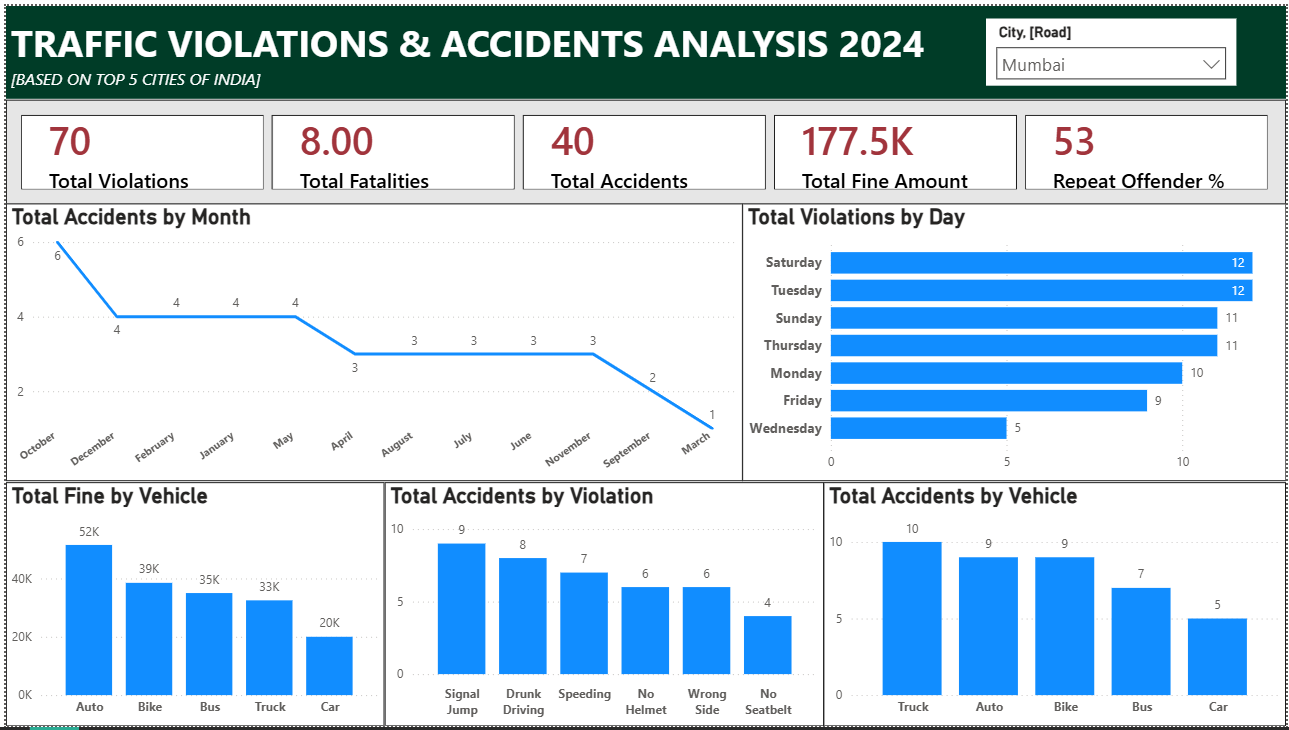

What the dashboard file says about the page in this screenshot:
{"tool":"powerbi","page":{"name":"Page 1","canvas":[1280,720],"ordinal":0},"visuals":[{"type":"cardVisual","fields":{"Data":["key measure.Total Violations","key measure.Total Fatalities","key measure.Total Accidents","key measure.Total Fine Amount","key measure.Repeat Offender %"]},"box":[0,93.3,1280,105],"z":0},{"type":"textbox","box":[0,0,1280.3,92.9],"z":1000},{"type":"lineChart","fields":{"Y":["key measure.Total Accidents"],"Category":["Dim_date.Month Name"]},"box":[0,197.8,736.4,277.4],"z":2000},{"type":"barChart","fields":{"Category":["Dim_date.Day Name"],"Y":["key measure.Total Violations"]},"box":[736.4,197.8,543.6,277.4],"z":3000},{"type":"columnChart","fields":{"Category":["Fact_table.Vehicle_type"],"Y":["key measure.Total Fine Amount"]},"box":[0,476.2,378.7,244.3],"z":4000},{"type":"slicer","fields":{"Values":["Dim_location.City","Dim_location.Road_name"]},"box":[980.2,12.4,250,67.2],"z":5000},{"type":"clusteredColumnChart","fields":{"Y":["key measure.Total Accidents"],"Category":["Fact_table.Vehicle_type"]},"box":[817.8,476.2,462.4,244.3],"z":6000},{"type":"clusteredColumnChart","fields":{"Y":["key measure.Total Accidents"],"Category":["Fact_table.Violation_type"]},"box":[378.7,476.2,439.1,244.3],"z":7000}]}

Visuals, with their boxes in screenshot pixels (x1, y1, x2, y2), scaled from the page's 1280x720 canvas onto the 1289x730 screenshot:
cardVisual - key measure.Total Violations x key measure.Total Fatalities: 0:95:1288:201
textbox: 0:0:1288:94
lineChart - key measure.Total Accidents x Dim_date.Month Name: 0:201:742:482
barChart - Dim_date.Day Name x key measure.Total Violations: 742:201:1288:482
columnChart - Fact_table.Vehicle_type x key measure.Total Fine Amount: 0:483:381:729
slicer - Dim_location.City x Dim_location.Road_name: 987:13:1239:81
clusteredColumnChart - key measure.Total Accidents x Fact_table.Vehicle_type: 824:483:1288:729
clusteredColumnChart - key measure.Total Accidents x Fact_table.Violation_type: 381:483:824:729
